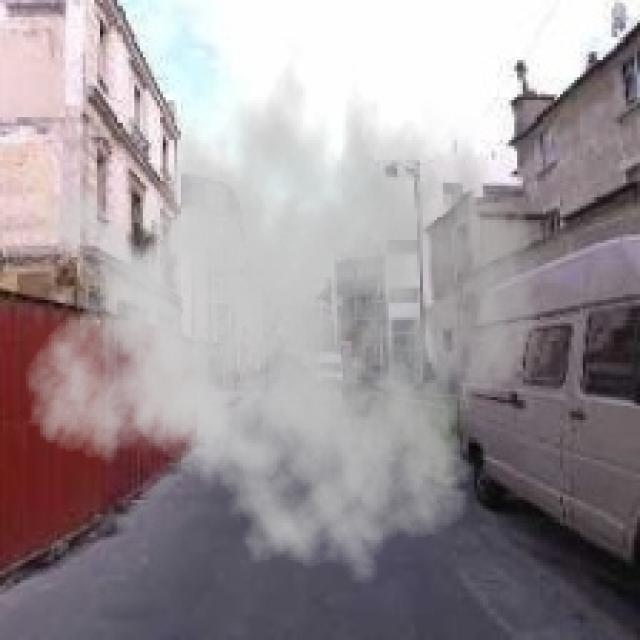smoke: (23, 37, 540, 597)
